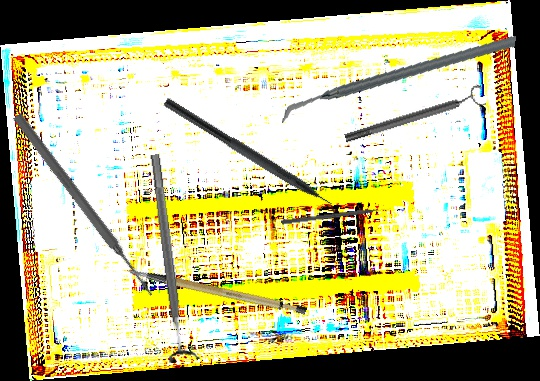Chopper: (281, 8, 517, 151), (155, 96, 351, 228)
Fixation Ring: (138, 152, 201, 364), (341, 83, 488, 149)
Pusher: (10, 111, 158, 300), (281, 206, 392, 226)
Scalpel Handle: (126, 240, 309, 338)
